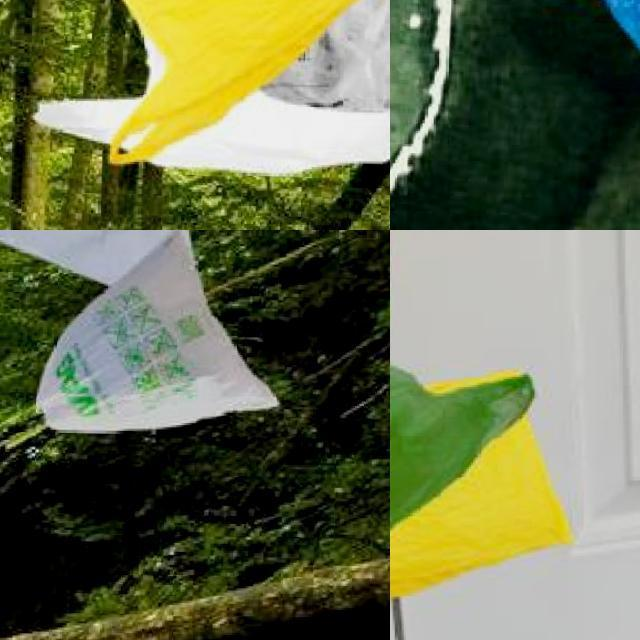waste: (0, 0, 390, 172), (390, 230, 533, 597), (32, 230, 278, 436), (390, 369, 578, 620)
